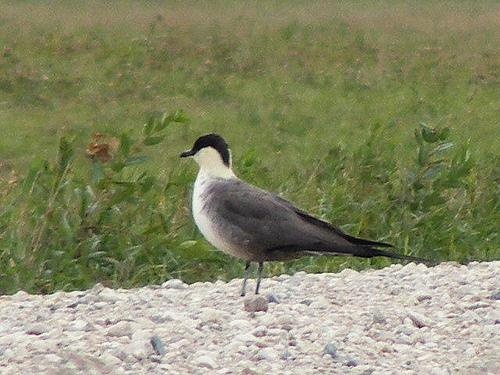bird: (175, 132, 430, 283)
